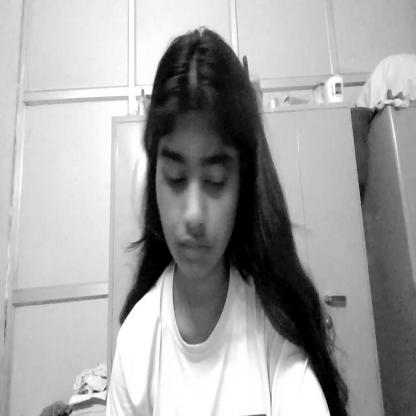Normal: (148, 34, 253, 282)
